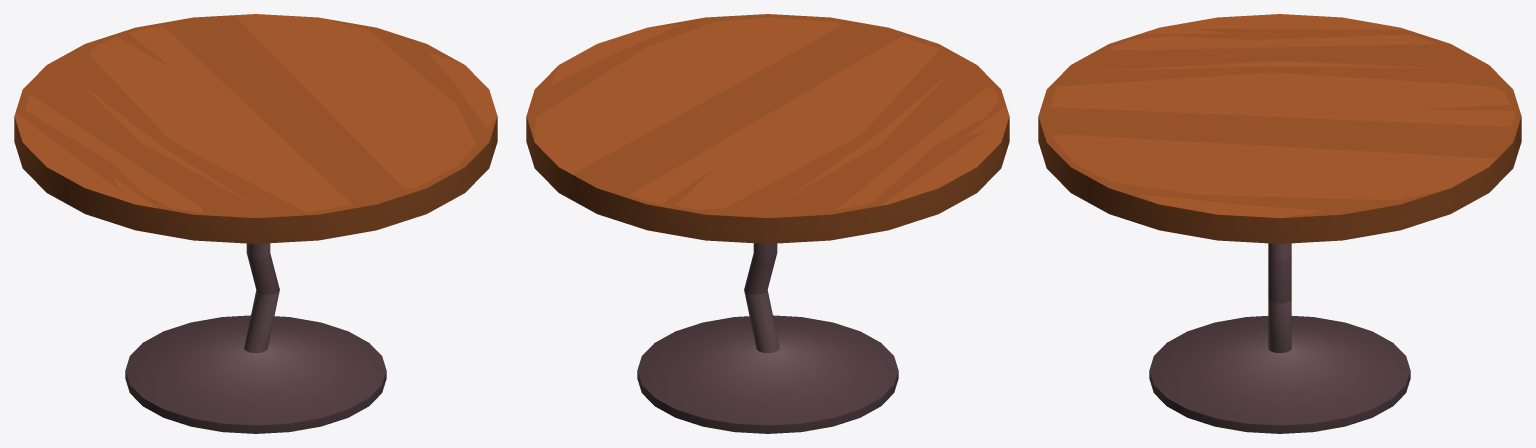
Rendered from SM_Table.fbx.
3 renders of one model, left to right at view 1: azimuth 30°, elevation 25°; view 2: azimuth 150°, elevation 25°; view 3: azimuth 270°, elevation 25°, orthographic.
Parts seen in each view (by area): view 1: Cylinder.004; view 2: Cylinder.004; view 3: Cylinder.004.
Boxes of the visible parts, x1,y1,x2,y2 form: Cylinder.004: [14, 14, 497, 433]; Cylinder.004: [526, 14, 1009, 433]; Cylinder.004: [1038, 14, 1521, 433].
Bounding box in the file's own units: 3.47 × 2.08 × 3.47.
